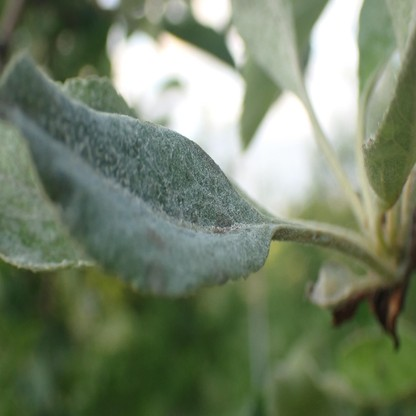powder: (1, 50, 278, 295)
